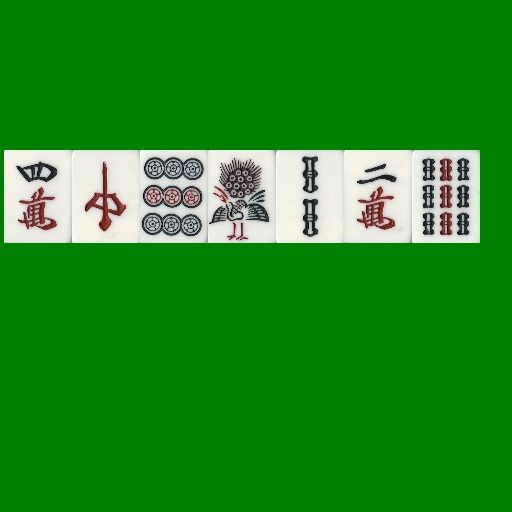1s: (208, 150, 276, 243)
2m: (344, 150, 412, 243)
2s: (276, 150, 344, 243)
4m: (4, 150, 72, 243)
9p: (140, 150, 208, 243)
9s: (412, 150, 480, 243)
tyun: (72, 150, 140, 243)
